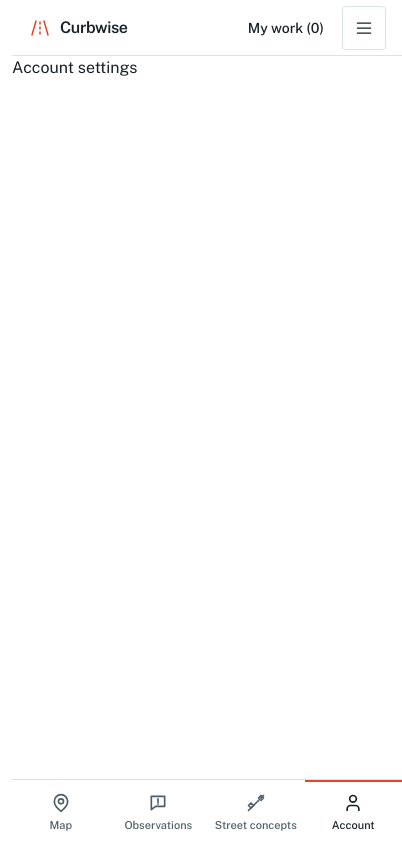
Scenario: application navigation › links the Map tab to the actual workspace and highlights the active page
The width and height of the screenshot is (402, 844).
Step 1. Click the link "Map" → (61, 812), box [50,793,72,831]
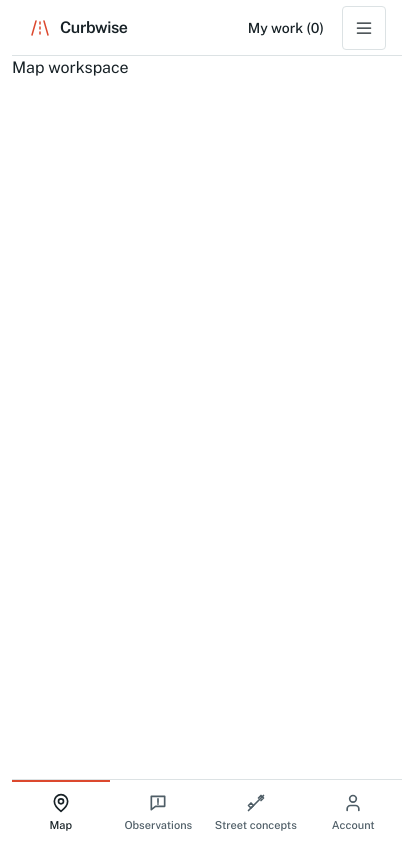
Now the heading "Map workspace" is shown, box [12,58,129,77]
